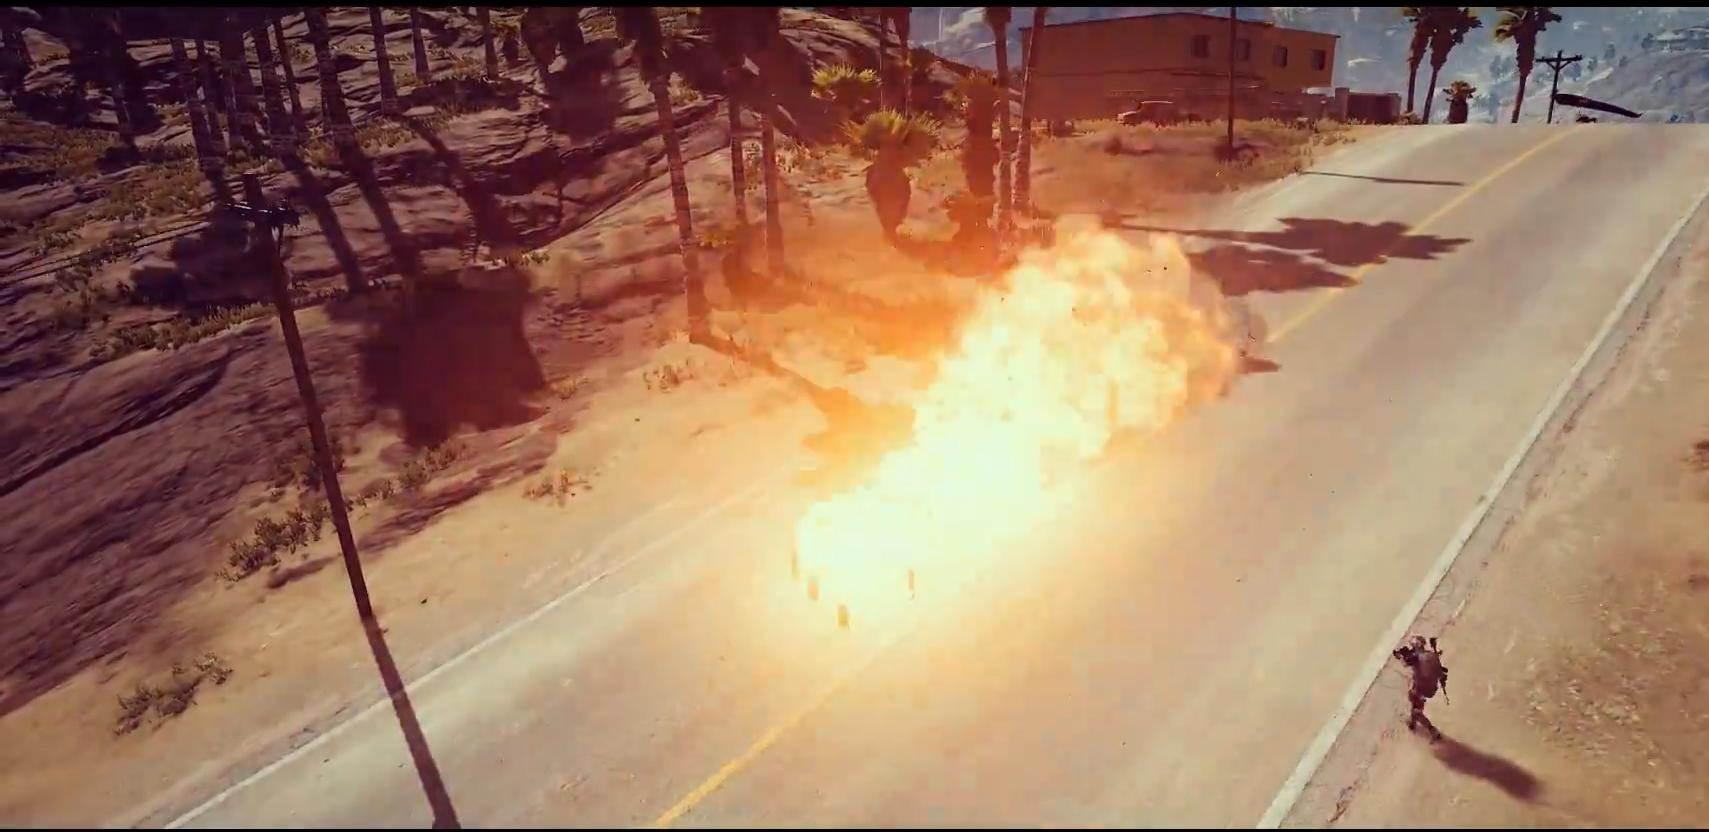fire: (774, 181, 1300, 630)
